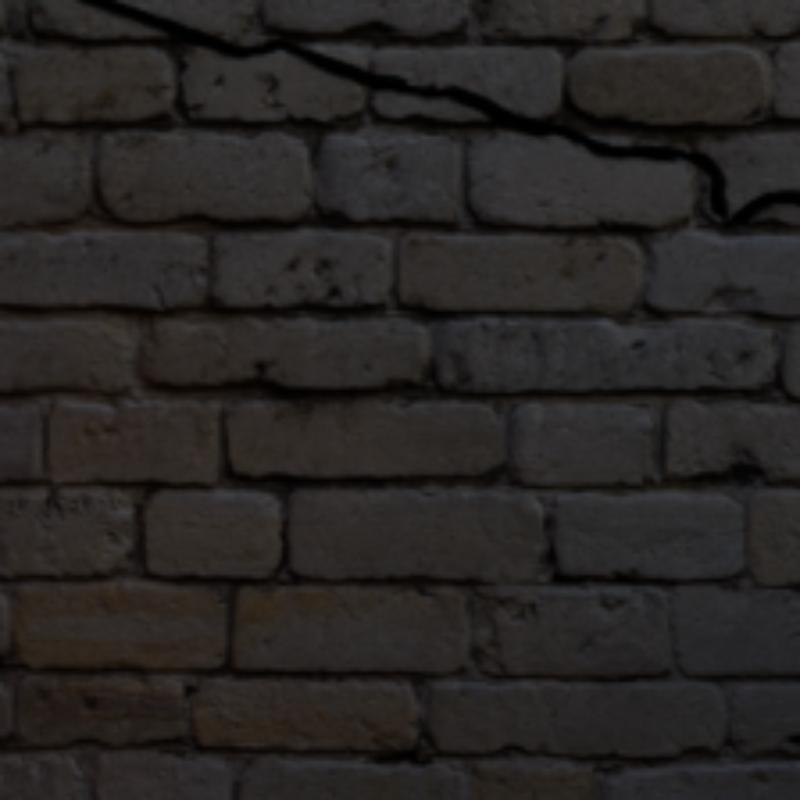pothole: (79, 0, 796, 229)
